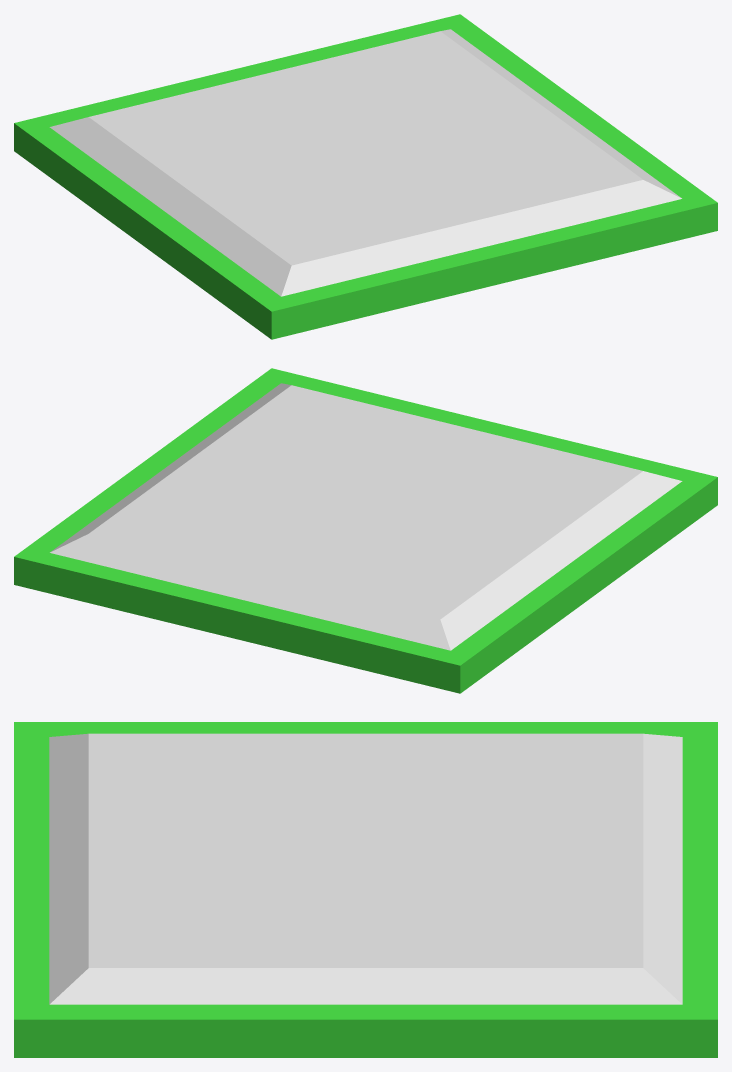
The model's file is cpunew.fbx.
The picture shows the model from 3 angles, top to bottom: view 1: azimuth 30°, elevation 25°; view 2: azimuth 150°, elevation 25°; view 3: azimuth 270°, elevation 25°; orthographic projection. The views are drawn at different scales.
Visible parts, largest first — view 1: Cube; view 2: Cube; view 3: Cube.
Boxes of the visible parts, <box> form: Cube: <box>14,14,717,339</box>; Cube: <box>14,368,717,693</box>; Cube: <box>14,722,717,1057</box>.
Size of the model in its own units: 53.39 by 4.87 by 53.39.
